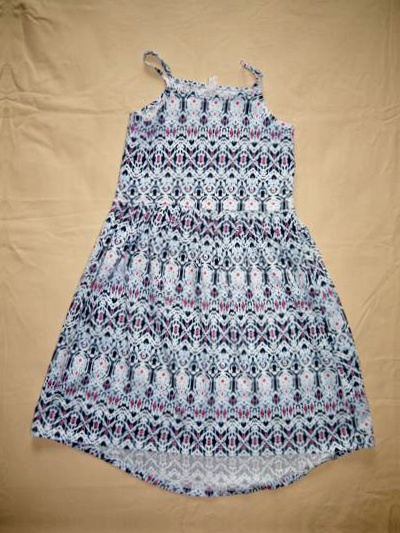Dress: (12, 32, 397, 506)
